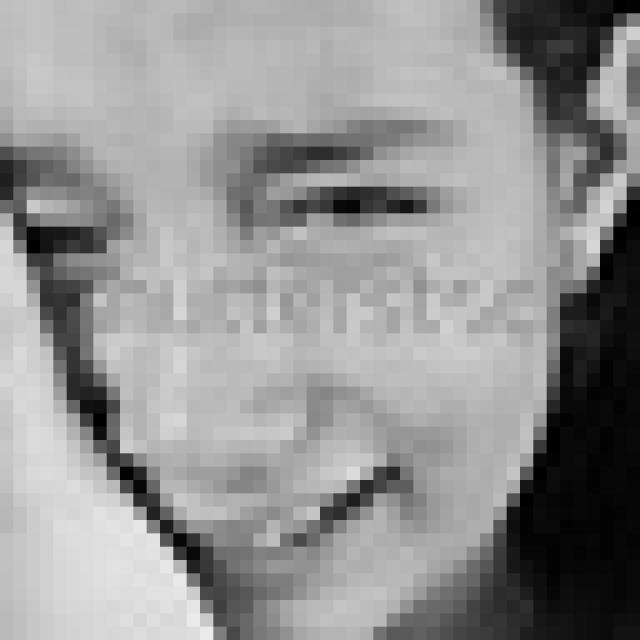sad: (0, 113, 461, 581)
